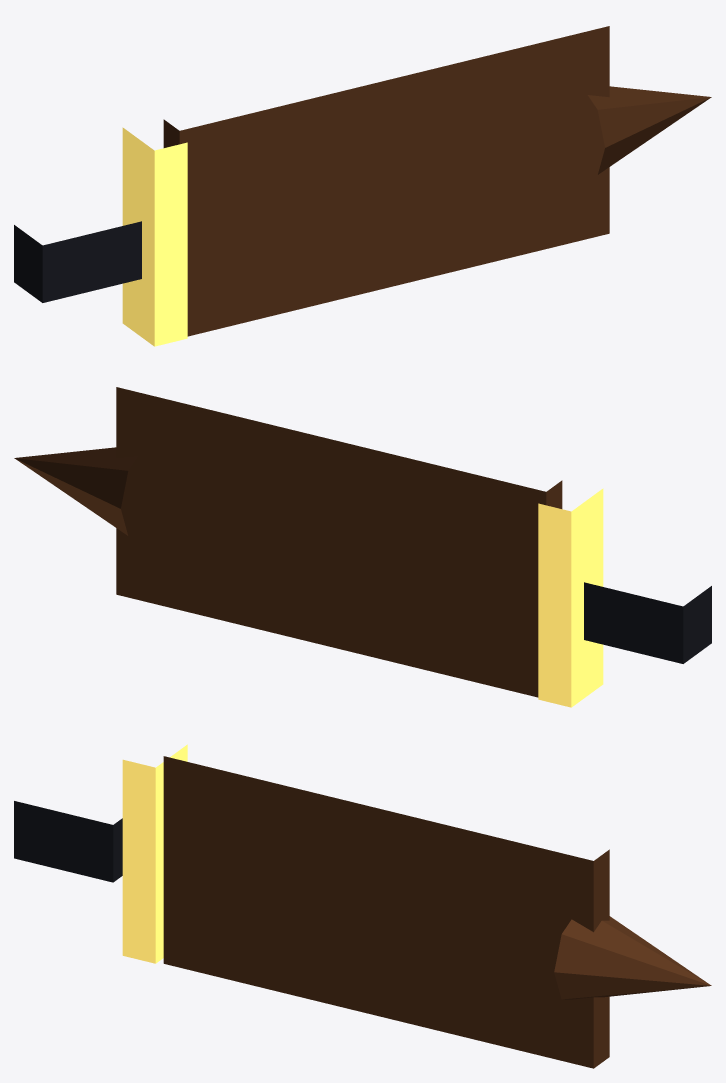
Rendered from alchemist.glb.
3 views of the same model, one above another, from view 1: azimuth 30°, elevation 25°; view 2: azimuth 150°, elevation 25°; view 3: azimuth 330°, elevation 25° (orthographic).
Parts seen in each view (by area): view 1: alchemist-blade, alchemist-guard, alchemist-grip, alchemist-tip; view 2: alchemist-blade, alchemist-guard, alchemist-grip, alchemist-tip; view 3: alchemist-blade, alchemist-guard, alchemist-tip, alchemist-grip.
Boxes of the visible parts, bbox=[...] form: alchemist-blade: bbox=[163, 26, 609, 336]; alchemist-guard: bbox=[122, 127, 187, 346]; alchemist-grip: bbox=[14, 221, 141, 302]; alchemist-tip: bbox=[588, 86, 711, 174]; alchemist-blade: bbox=[116, 387, 562, 697]; alchemist-guard: bbox=[538, 488, 603, 707]; alchemist-grip: bbox=[584, 582, 711, 663]; alchemist-tip: bbox=[14, 447, 137, 535]; alchemist-blade: bbox=[163, 756, 609, 1068]; alchemist-guard: bbox=[122, 744, 187, 963]; alchemist-tip: bbox=[554, 916, 711, 999]; alchemist-grip: bbox=[14, 801, 122, 882].
Size of the model in its own units: 1.24 by 0.36 by 0.16.
